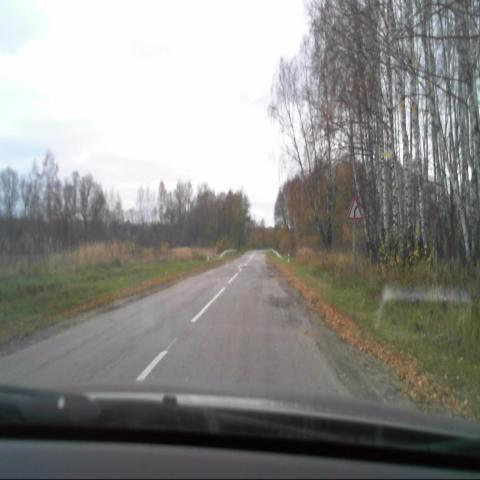1_11: (347, 197, 361, 221)
